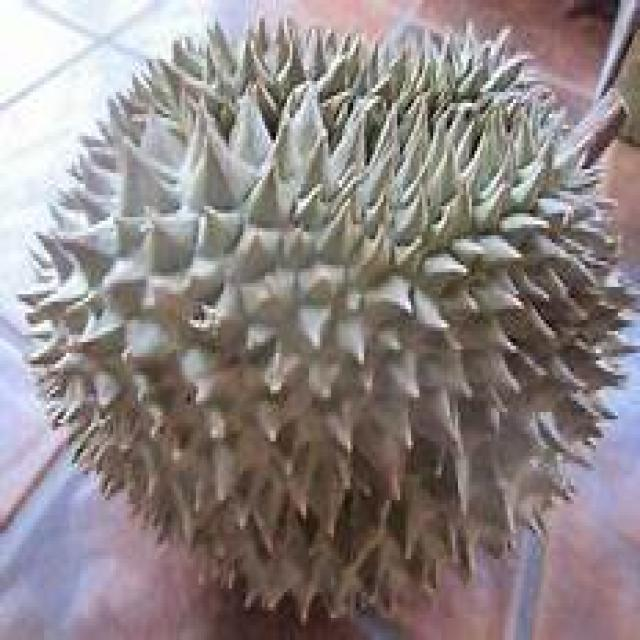mature: (12, 10, 633, 618)
